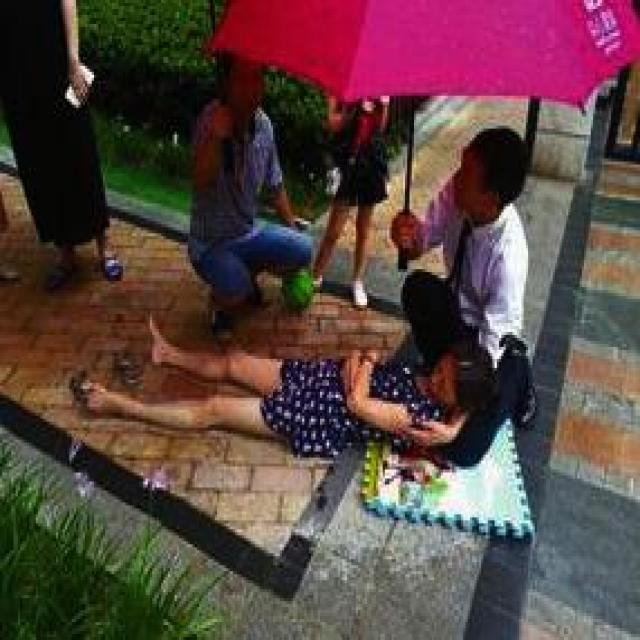fall: (67, 302, 472, 446)
